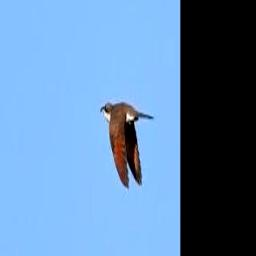Cuckoo: (101, 101, 156, 186)
